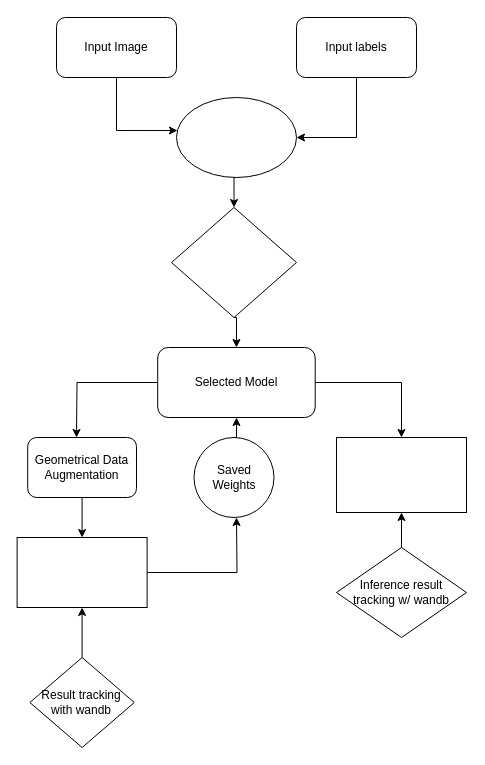
This 485x765 diagram has some shape labels left out. Here are the shapes that lost their labels. From the top down, the centre of each, then its label:
the point at 236,137: Configuration Setup
the point at 233,262: Exp. Tracking w/ WandB Setup
the point at 401,474: Model Inference
the point at 81,572: Model Training w/ fixed config
